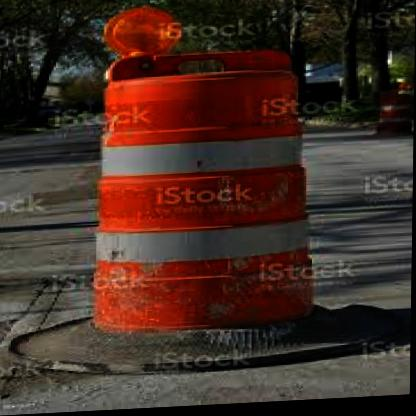obstacle: (89, 47, 327, 355)
